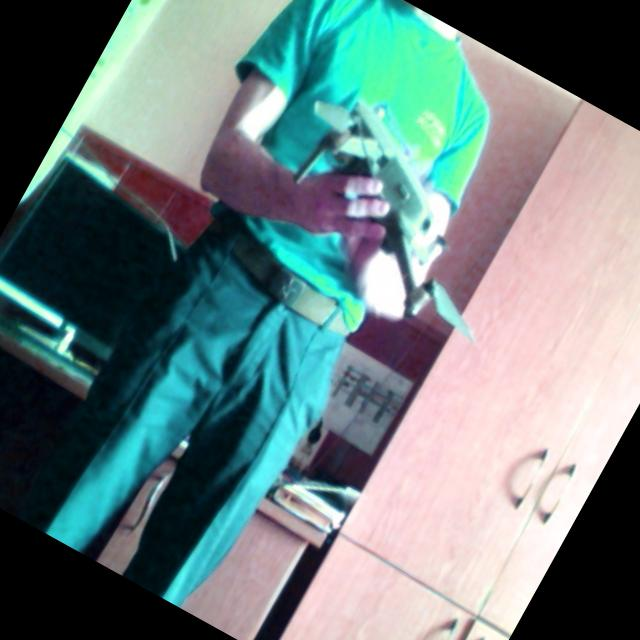drone: (240, 62, 564, 354)
